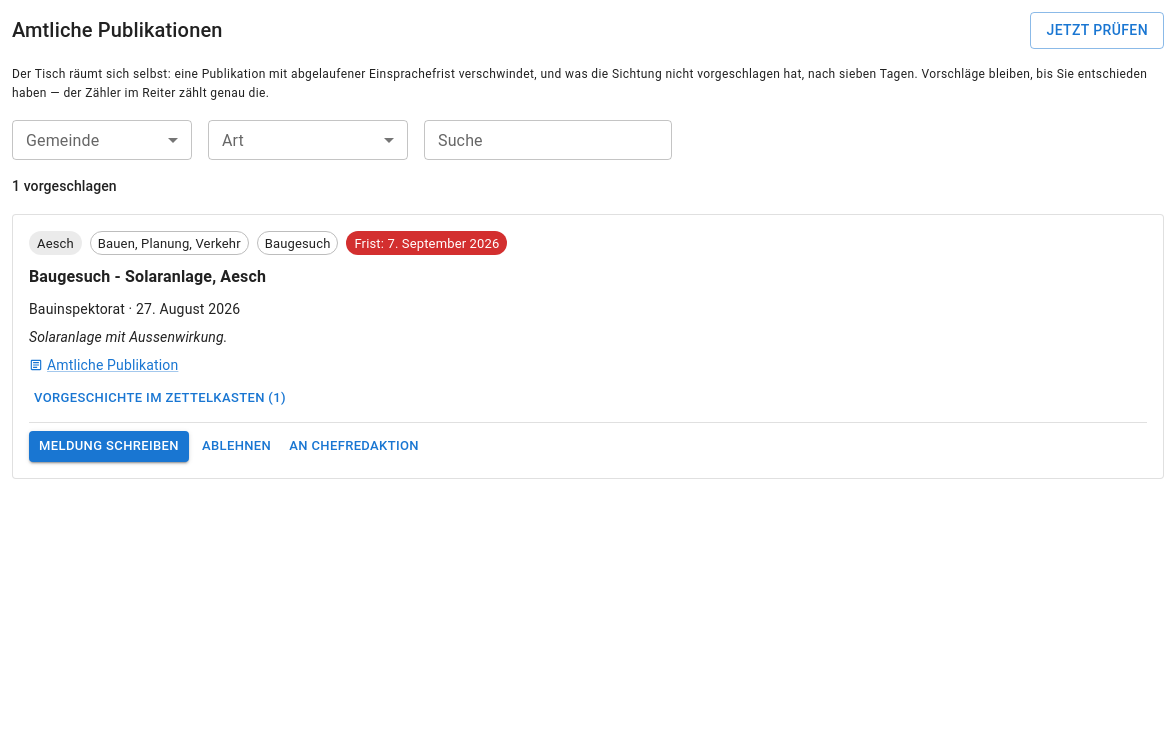
Test case: Vorgeschichte aus dem Zettelkasten › zeigt die frueheren Publikationen erst auf Klick, mit dem Vorbehalt
The image size is (1176, 732).
Expected: the text "Baugesuch - Abbruch Scheune" is not shown
Step 1. Click the button "Vorgeschichte im Zettelkasten (1)" → (160, 399), box [29,383,291,414]
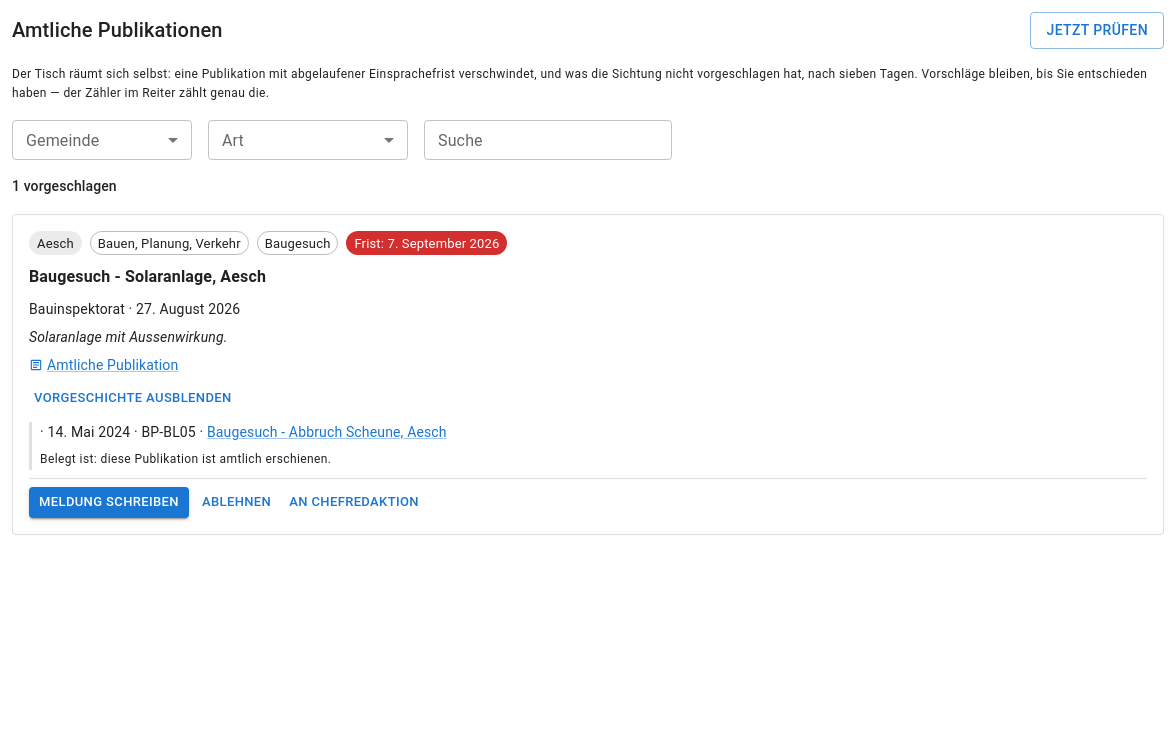
Expected: the link "Baugesuch - Abbruch Scheune, Aesch" is shown, [207,424,447,440]
Expected: the text "Belegt ist: diese Publikation ist amtlich erschienen." is shown, [40,452,331,466]
